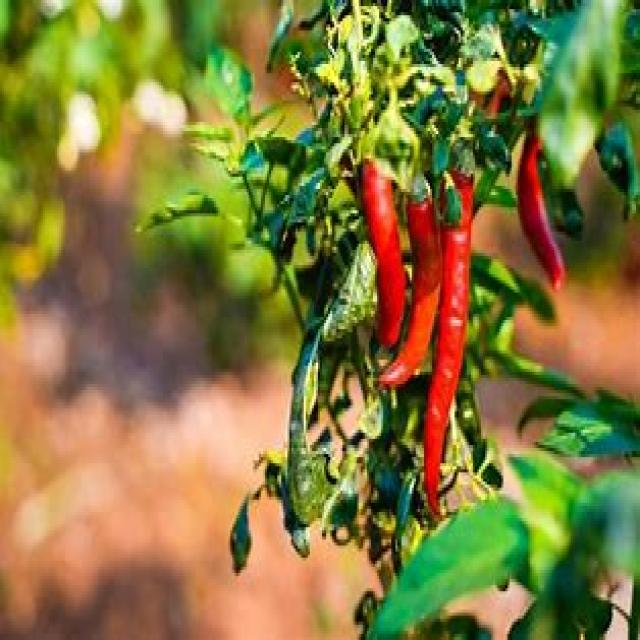Mosaic_virus: (179, 1, 575, 599)
